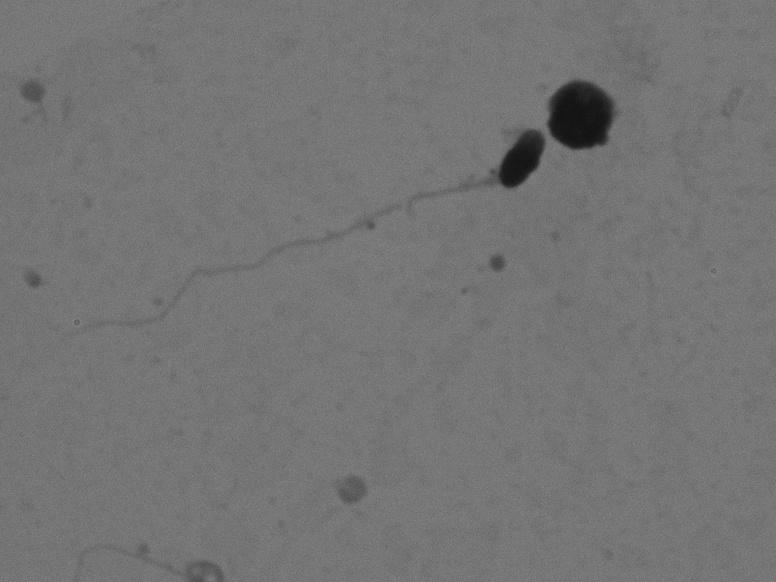Abnormal: (39, 99, 550, 397)
